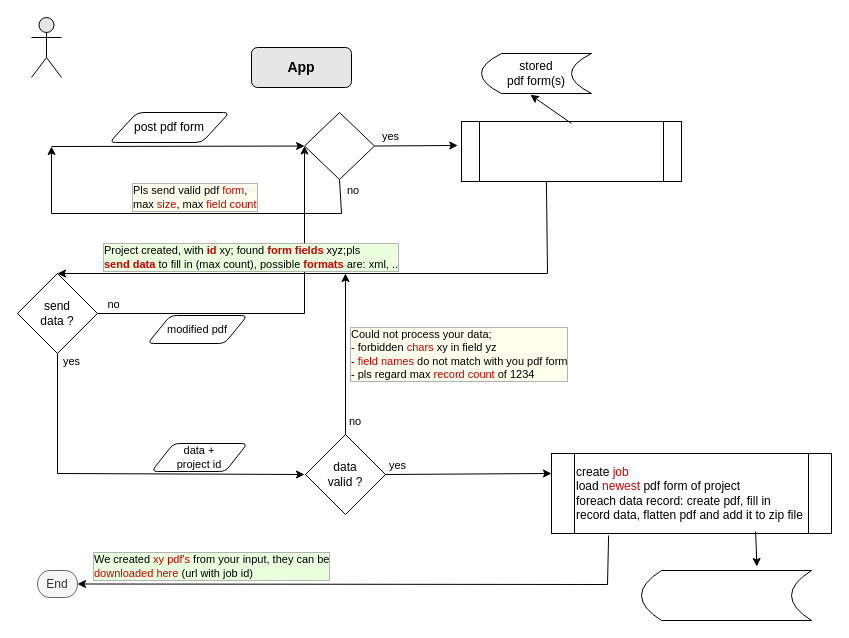
This 849x638 diagram has some shape labels left out. The box of each missing label's shape, as (x1, y1, x2, y2) in pixels:
Browser: (30, 16, 62, 78)
create project, store every posted valid pdf form, dump form fields for feedback: (460, 120, 682, 182)
pdf valid ?: (304, 112, 374, 180)
stored zip file contains resulting pdf's: (640, 570, 812, 620)
